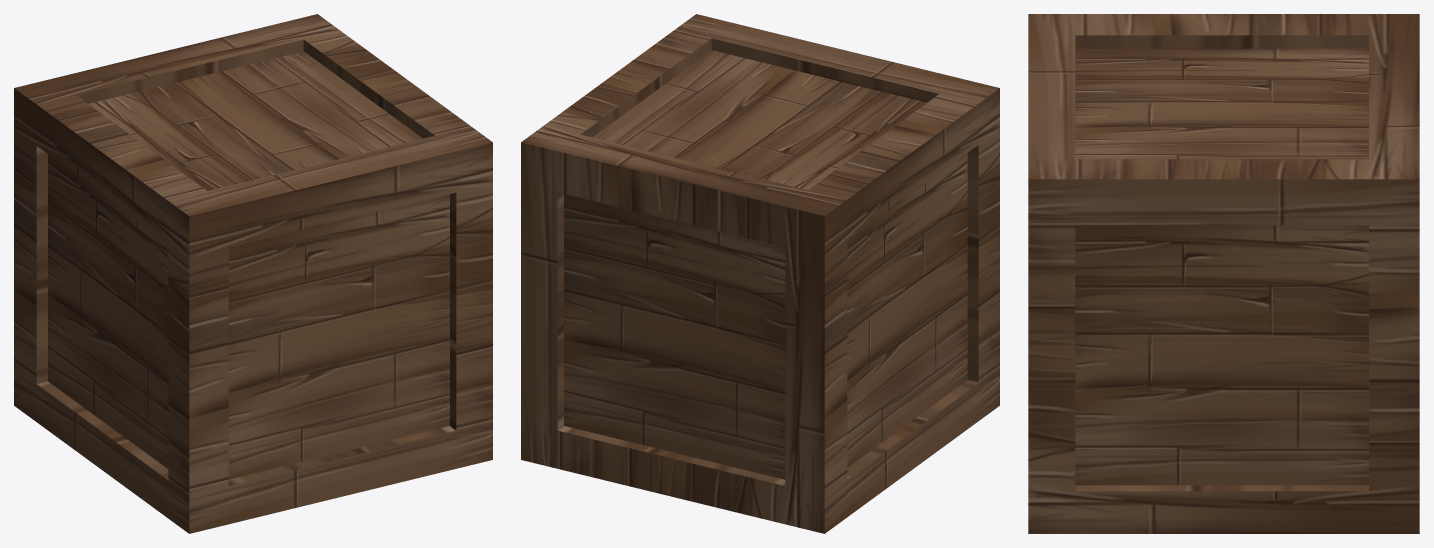
Rendered from Crate.fbx.
3 views of the same model, side by side, from view 1: azimuth 30°, elevation 25°; view 2: azimuth 150°, elevation 25°; view 3: azimuth 270°, elevation 25° (orthographic). The views are drawn at different scales.
Visible parts, largest first — view 1: pCube1; view 2: pCube1; view 3: pCube1.
Part boxes in pixels (x1,y1,x2,y2): pCube1: [14, 14, 492, 533]; pCube1: [521, 14, 999, 533]; pCube1: [1028, 14, 1419, 533].
Size of the model in its own units: 5.4 by 5.4 by 5.4.
Materials: 1 (1 with a texture image).
